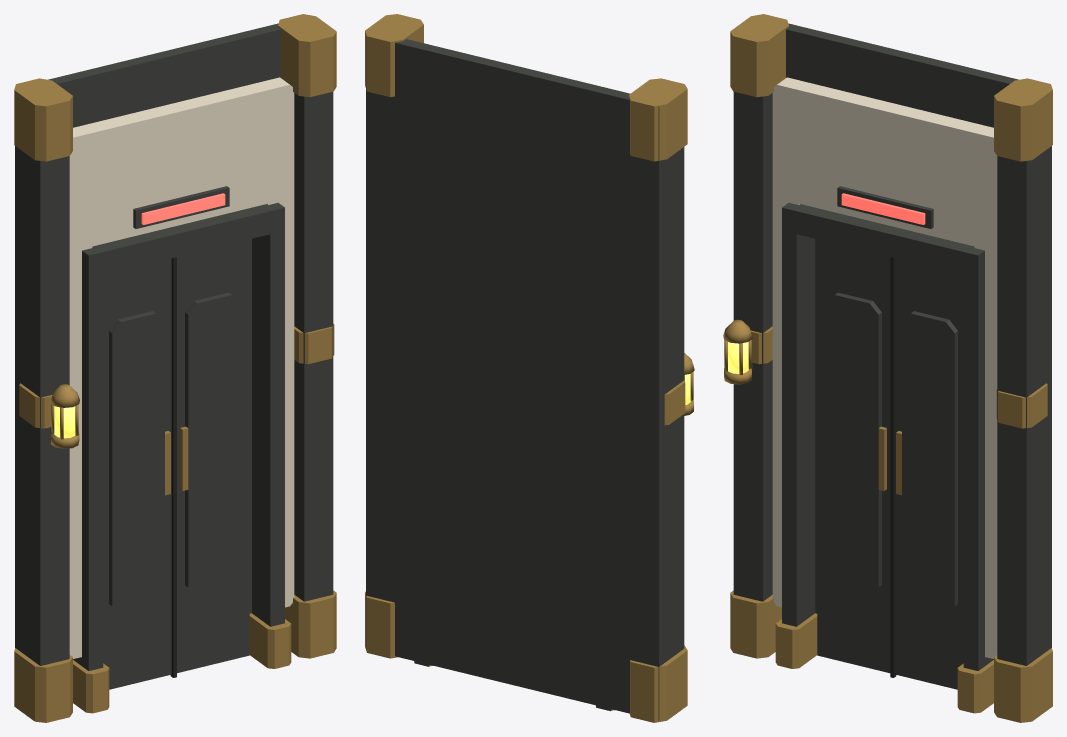
Rendered from b1_door.glb.
3 views of the same model, side by side, from view 1: azimuth 30°, elevation 25°; view 2: azimuth 150°, elevation 25°; view 3: azimuth 330°, elevation 25° (orthographic).
Visible parts, largest first — view 1: b1_door; view 2: b1_door; view 3: b1_door.
Part boxes in pixels (box(x1,y1,x2,y2)): b1_door: box(14, 14, 336, 722); b1_door: box(365, 14, 694, 722); b1_door: box(723, 14, 1052, 722).
Bounding box in the file's own units: 2.06 × 4.03 × 0.5325.
